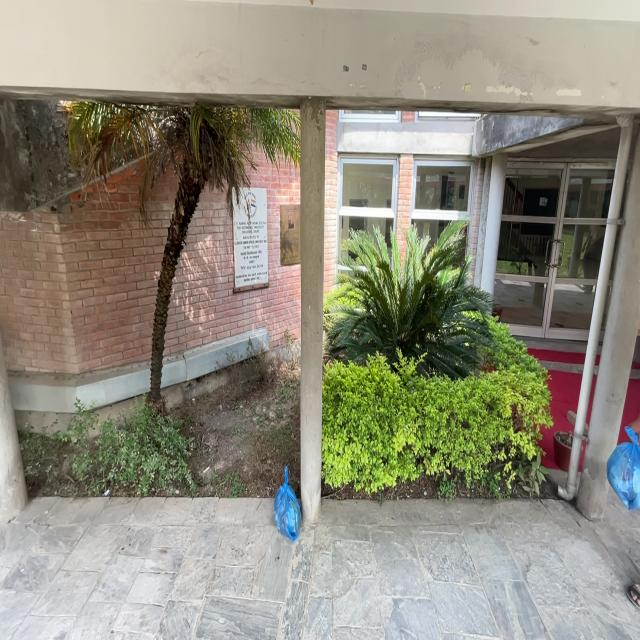carryload: (604, 406, 640, 529)
garbage: (271, 469, 320, 560)
